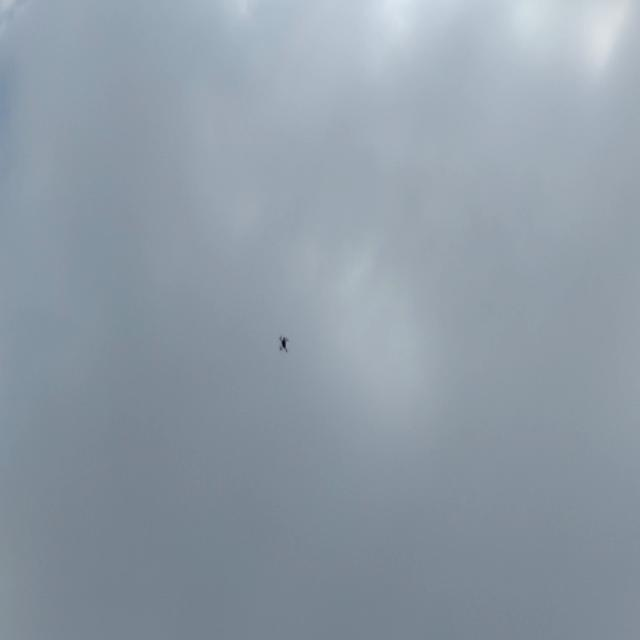drone: (276, 332, 290, 358)
